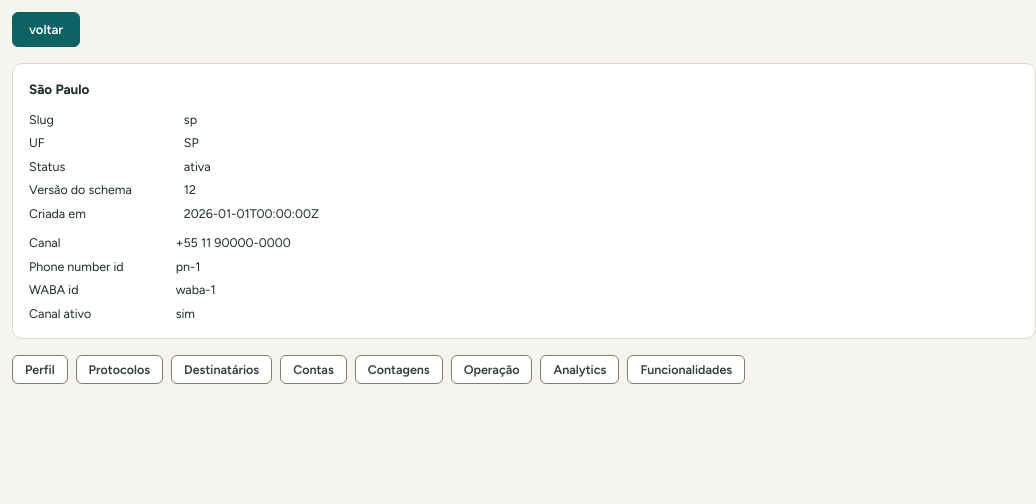
it: CityDetail › CITY_READ_FAILED aparece do mesmo jeito
Expected: the heading "São Paulo" is shown, [29,80,89,99]
Click the button "Operação".
click(492, 370)  # box [451,355,532,384]
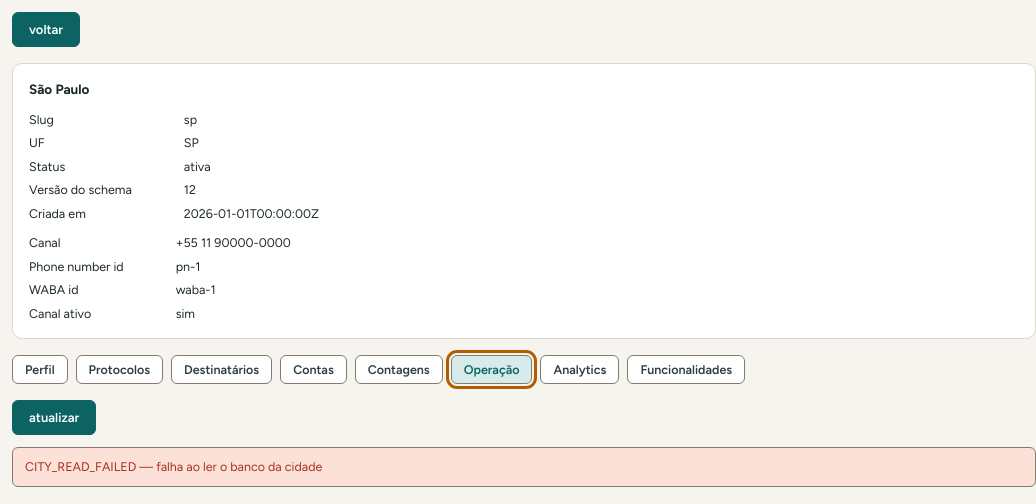
Expected: the message reads "CITY_READ_FAILED — falha ao ler o banco da cidade", [25,459,322,474]
